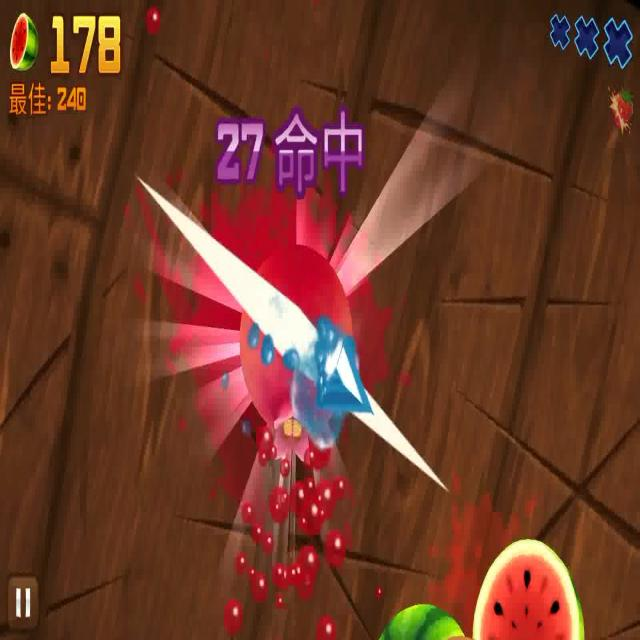fruit: (239, 231, 361, 459), (473, 535, 587, 640), (377, 594, 468, 640)
